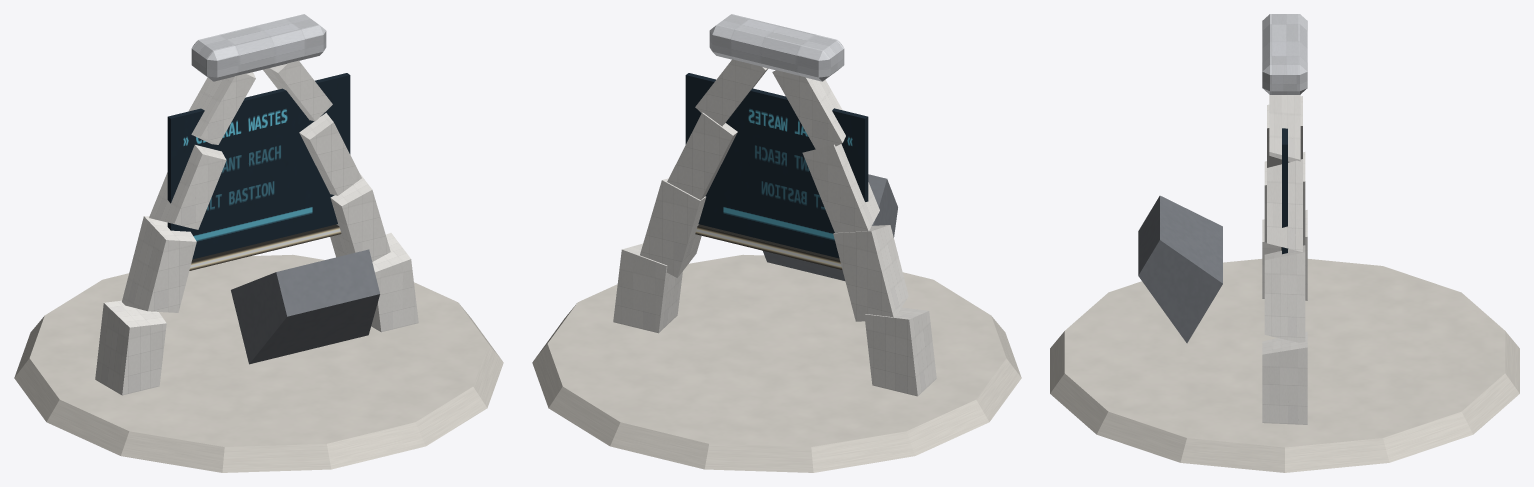
Rendered from sanc_terminal.obj.
3 renders of one model, left to right at view 1: azimuth 30°, elevation 25°; view 2: azimuth 150°, elevation 25°; view 3: azimuth 270°, elevation 25°, orthographic.
Parts seen in each view (by area): view 1: sanc_terminal; view 2: sanc_terminal; view 3: sanc_terminal.
Part boxes in pixels (left/top/right/bottom): sanc_terminal: left=14, top=14, right=503, bottom=472; sanc_terminal: left=532, top=14, right=1021, bottom=472; sanc_terminal: left=1050, top=14, right=1519, bottom=472.
Bounding box in the file's own units: 3.2 × 2.43 × 3.12.
1 material, 1 textured.
